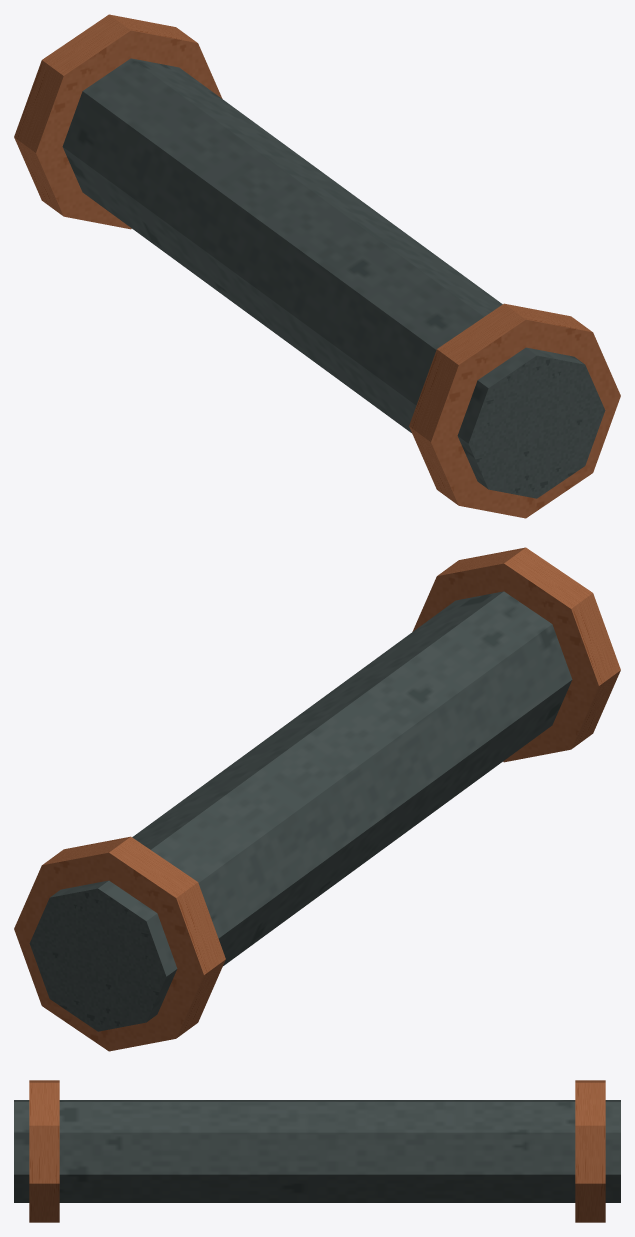
The model's file is PipeStraight2m.fbx.
3 renders of one model, top to bottom at view 1: azimuth 30°, elevation 25°; view 2: azimuth 150°, elevation 25°; view 3: azimuth 270°, elevation 25°, orthographic. The views are drawn at different scales.
Visible parts, largest first — view 1: PipeStraight2m; view 2: PipeStraight2m; view 3: PipeStraight2m.
Part boxes in pixels (x1,y1,x2,y2): PipeStraight2m: [14, 14, 620, 518]; PipeStraight2m: [14, 547, 620, 1051]; PipeStraight2m: [14, 1080, 620, 1222].
Size of the model in its own units: 50 by 50 by 200.
